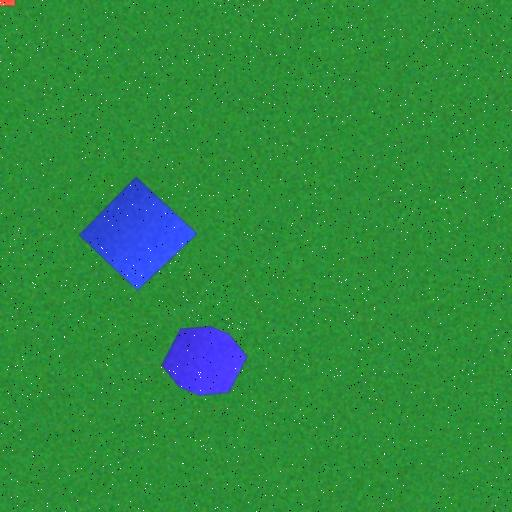BLUE_SQUARE: (78, 176, 198, 291)
